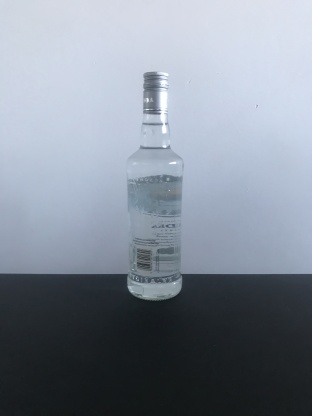nakretka: (141, 69, 170, 116)
